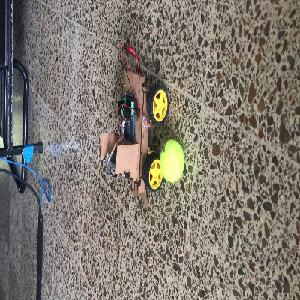Ball: (160, 139, 184, 182)
Robot: (100, 68, 169, 212)
